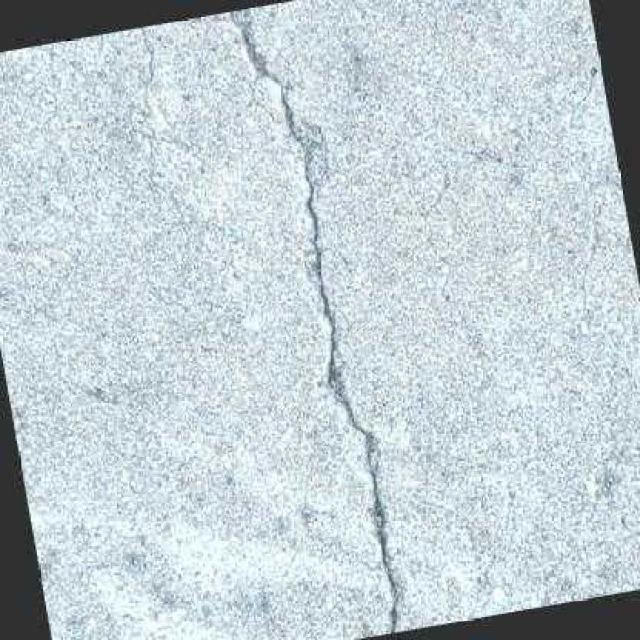D00: (225, 6, 402, 633)
